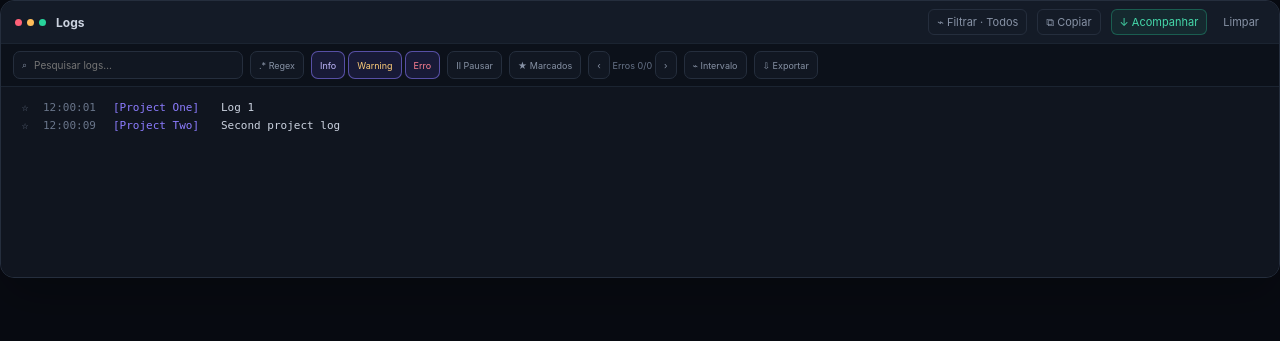
Test: LogPanelComponent › filters the consolidated output by multiple selected projects
Click the button with class "source-filter-toggle".
click(978, 22)  # box [928, 9, 1027, 35]
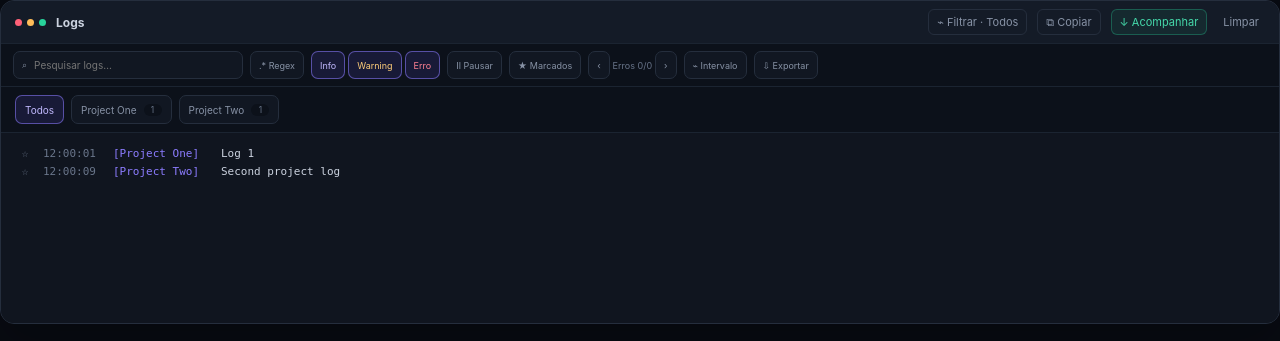
Click the button "Project One 1".
click(121, 110)  # box [71, 95, 172, 124]
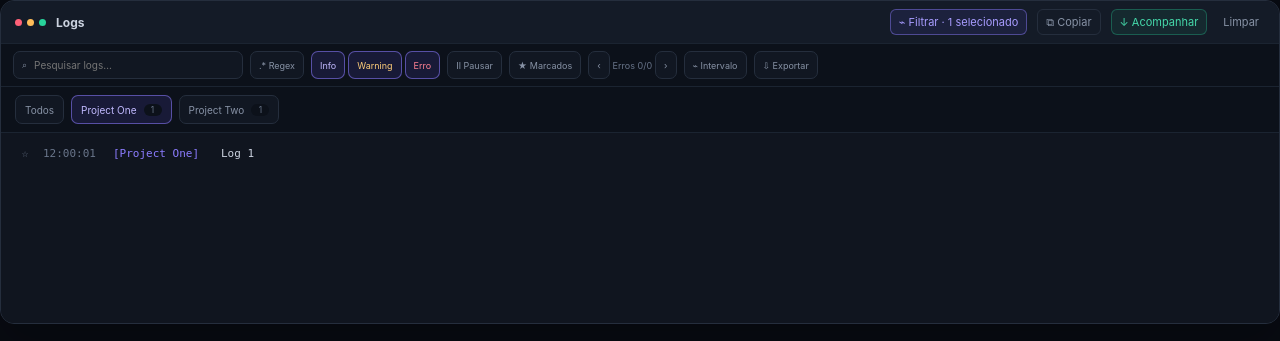
Expected: the element with class "console" shows "Log 1", [221, 147, 254, 160]
Expected: the text with class "console" no longer shows "Second project log"
Click the button "Project Two 1".
click(229, 110)  # box [178, 95, 279, 124]
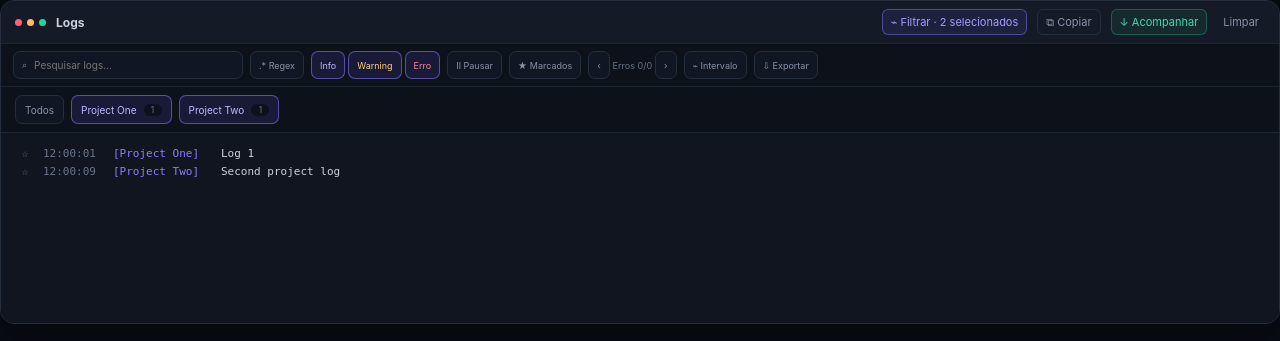
Expected: the element with class "console" shows "Log 1", [221, 147, 254, 160]
Expected: the element with class "console" shows "Second project log", [221, 165, 340, 178]
